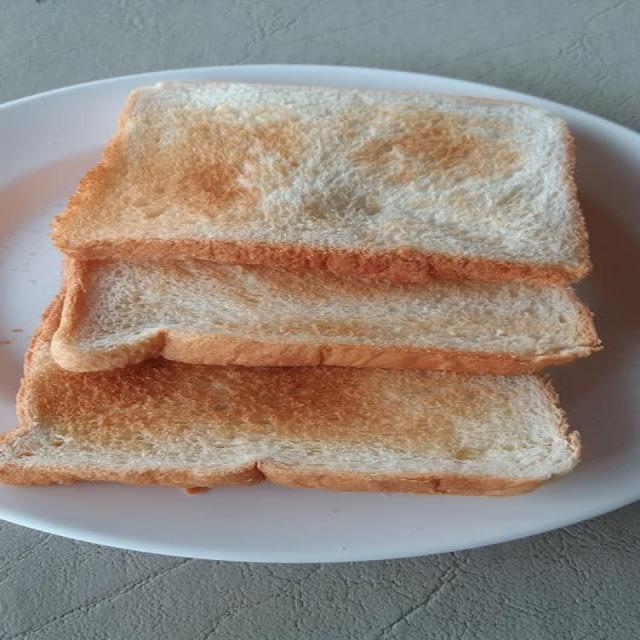toast bread: (0, 293, 578, 495), (55, 81, 590, 285), (53, 258, 598, 374)
